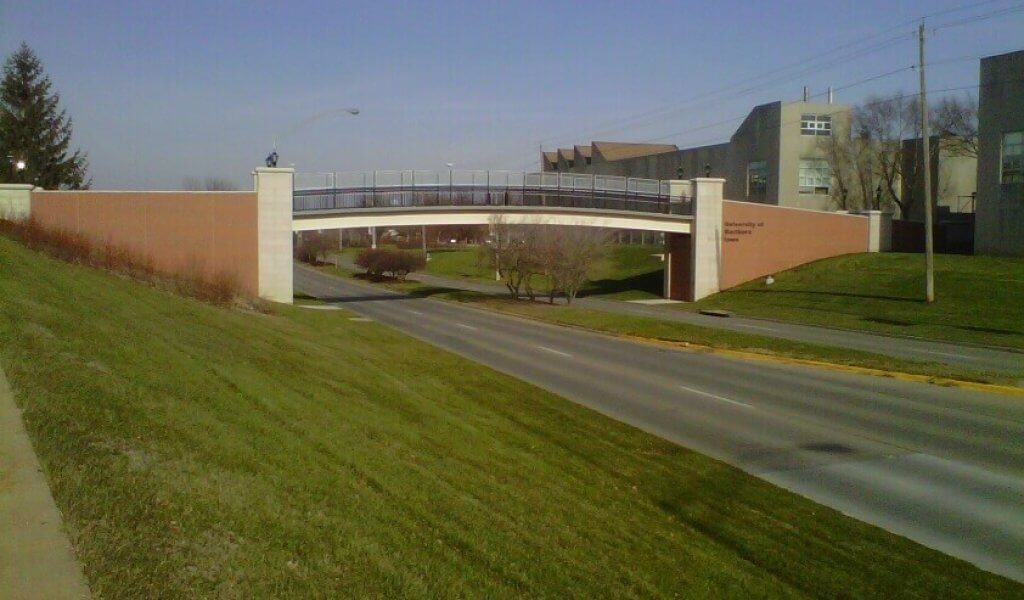bridge: (4, 164, 885, 313)
